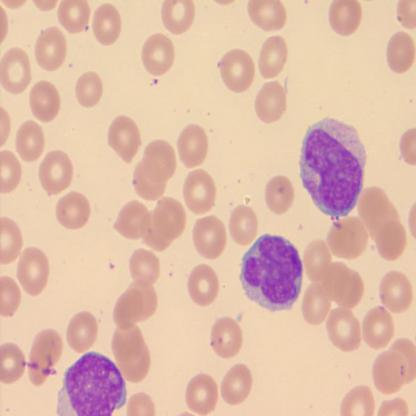Blast: (296, 116, 370, 220), (238, 231, 305, 313)
